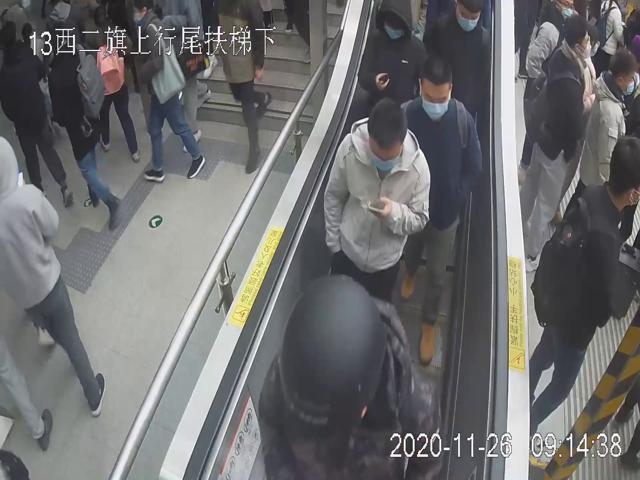person: (394, 54, 485, 367), (324, 94, 432, 297), (353, 0, 429, 108), (427, 0, 491, 120)
